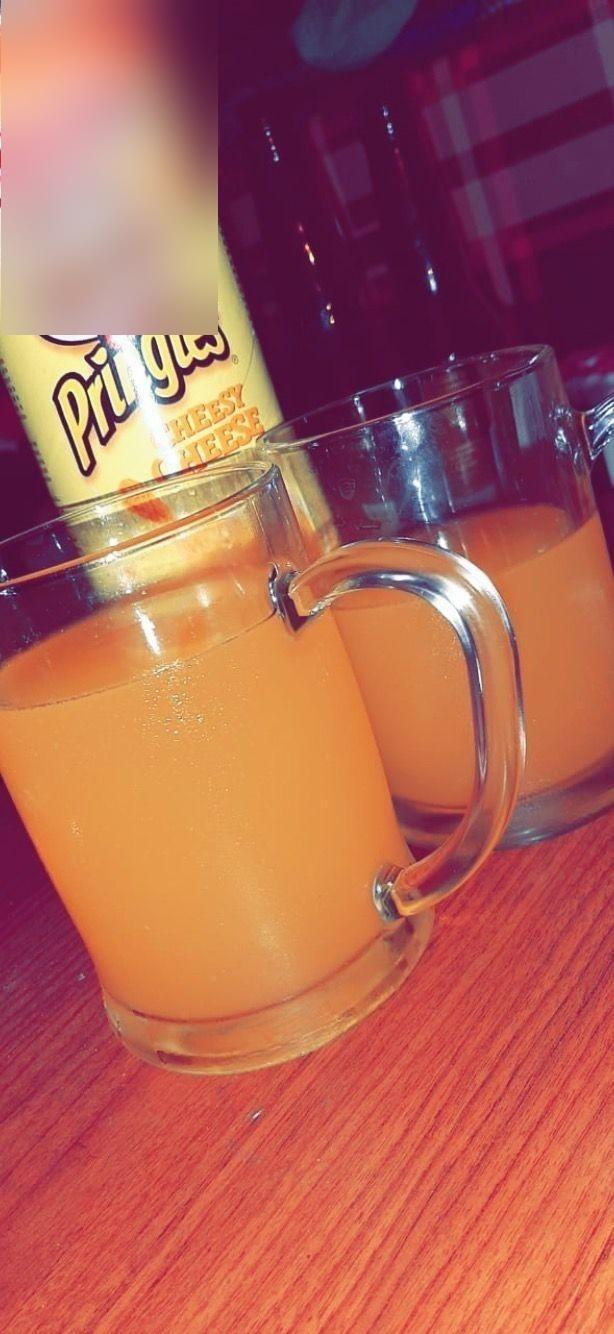glass-mug: (1, 426, 541, 1078), (230, 331, 614, 851)
